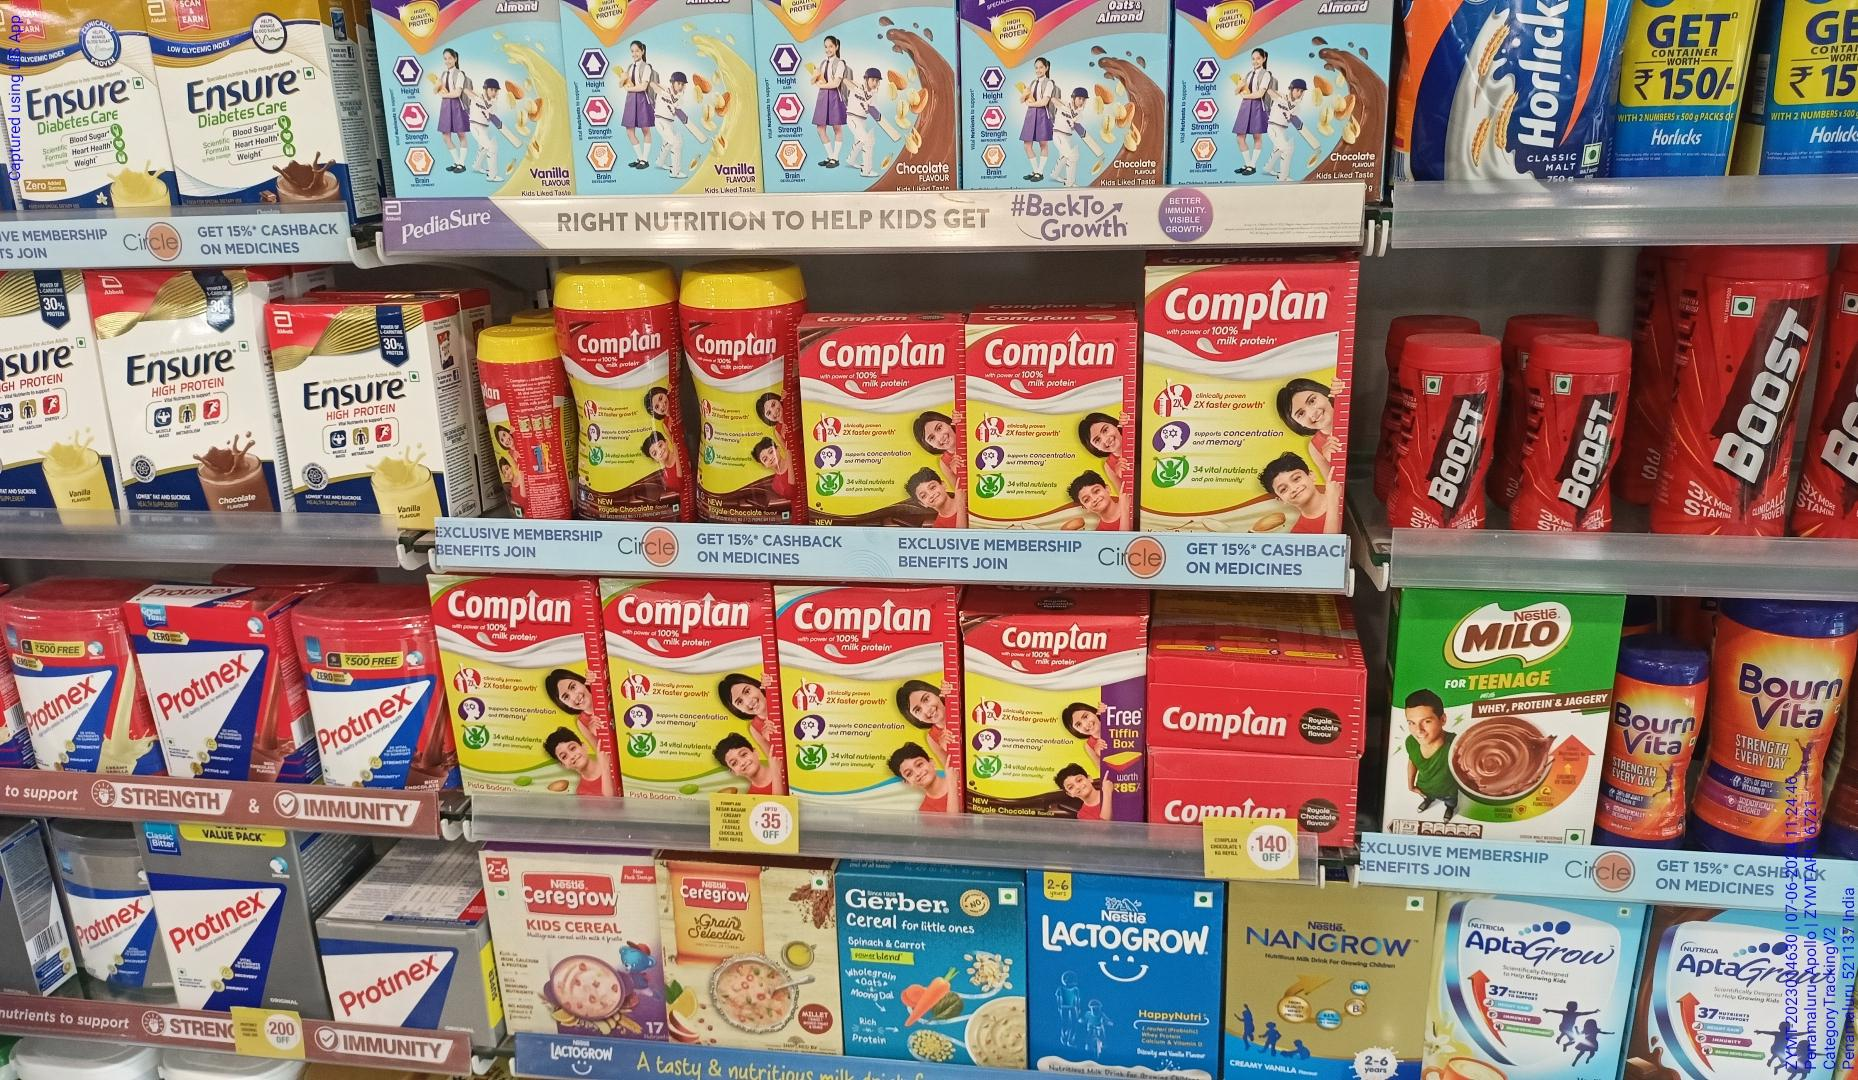PROTINEX_CHOCOLATE_400_G_JAR: (309, 611, 446, 784), (163, 595, 285, 789)
PROTINEX_ORIGINAL_400_G_JAR: (50, 823, 152, 1011)
PROTINEX_VANILLA_400_G_JAR: (3, 585, 141, 779)
